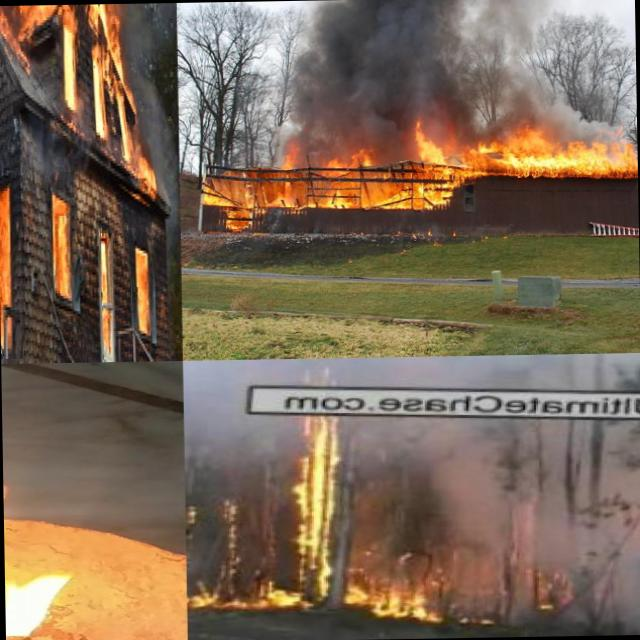fire: (198, 143, 380, 232), (278, 414, 352, 616), (407, 116, 638, 180), (0, 3, 133, 104), (2, 443, 69, 640), (352, 554, 471, 626), (187, 575, 280, 615), (0, 172, 16, 343), (50, 193, 71, 297), (129, 151, 159, 210), (132, 242, 150, 336)
smoke: (273, 0, 569, 122), (470, 433, 640, 637), (352, 422, 469, 556), (132, 66, 172, 150), (158, 148, 180, 232)
